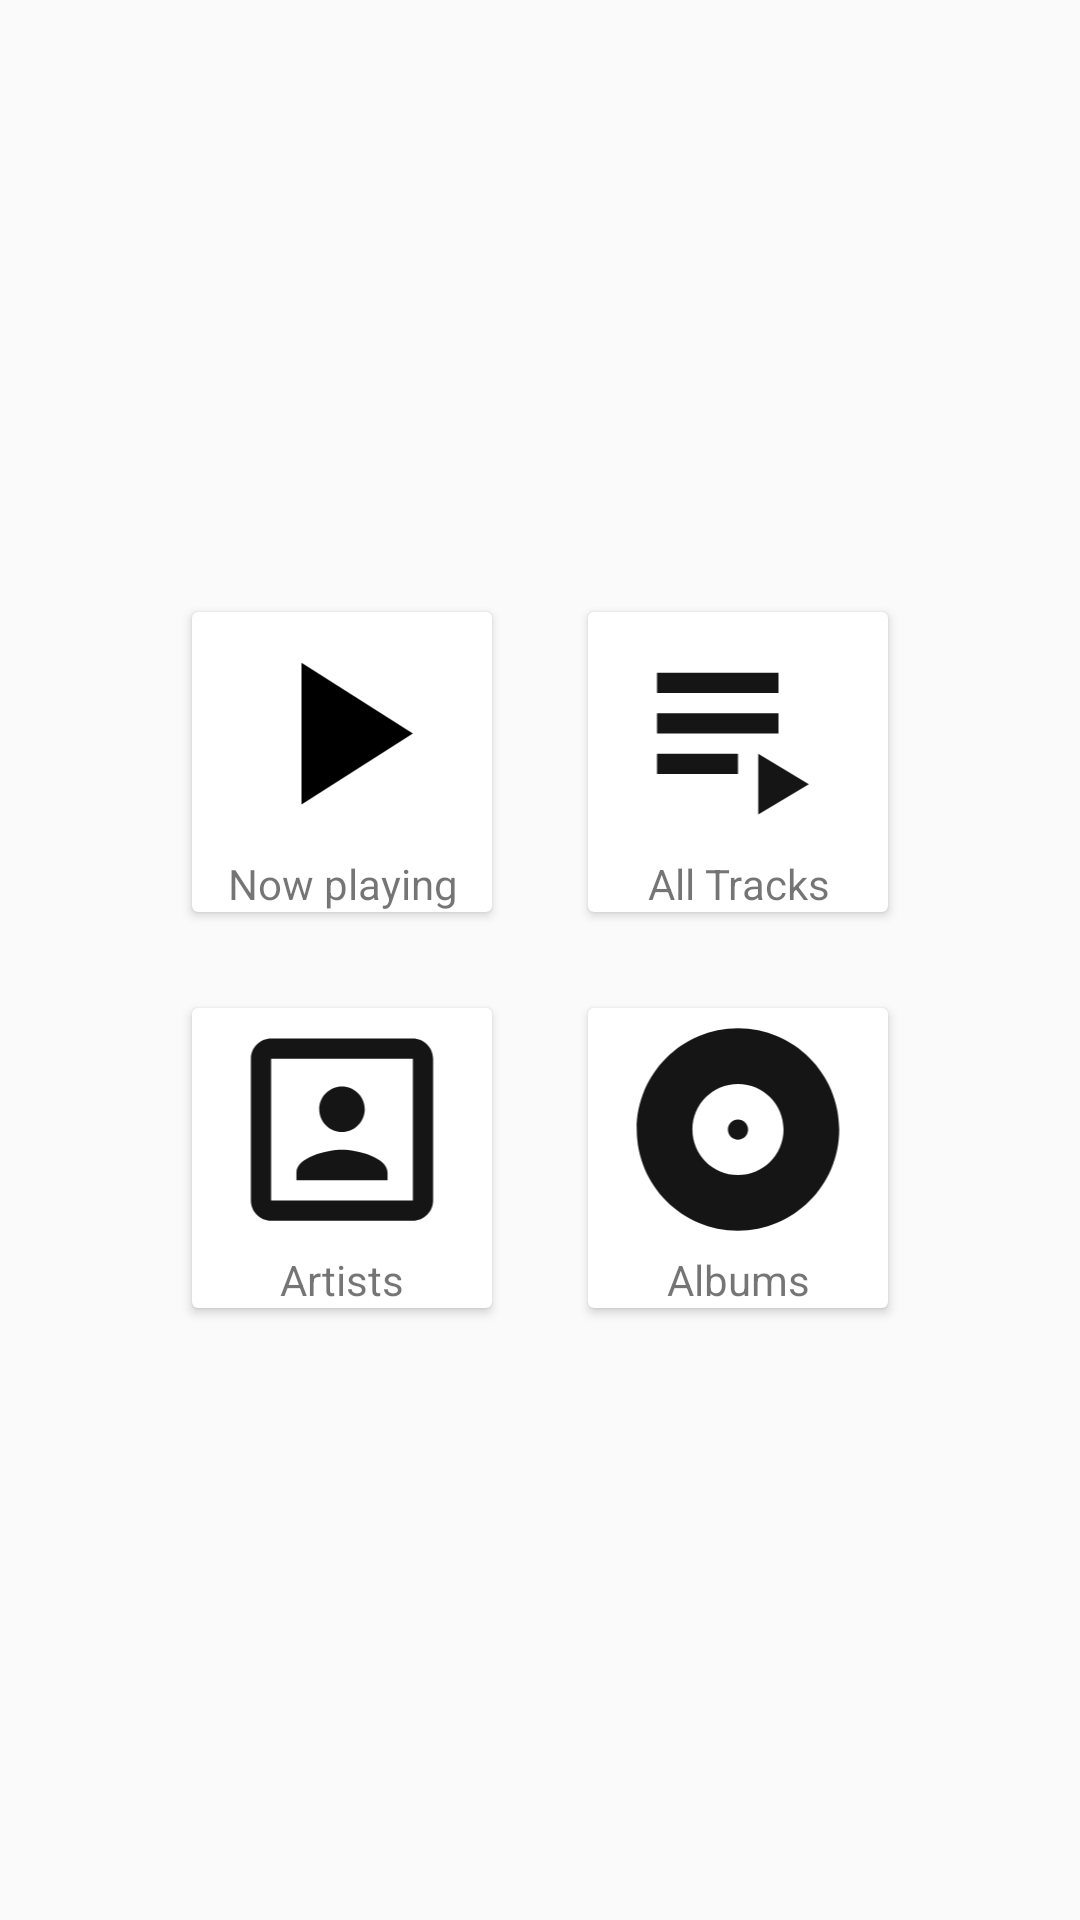

Screen size 1080×1920. Icon name, then its box in pixels as (x1, y1, x2, y2):
play arrow: (301, 663, 413, 805)
playlist play: (656, 672, 809, 814)
portrait: (250, 1038, 434, 1221)
